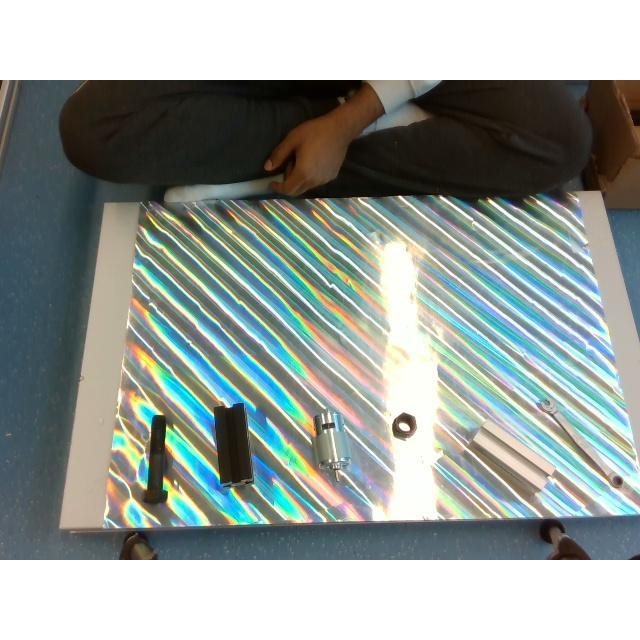M20: (392, 412, 416, 440)
M20_100: (137, 413, 167, 502)
Motor2: (312, 410, 350, 482)
S40_40_B: (213, 402, 253, 486)
S40_40_G: (470, 421, 554, 505)
Wrench: (536, 398, 624, 488)
